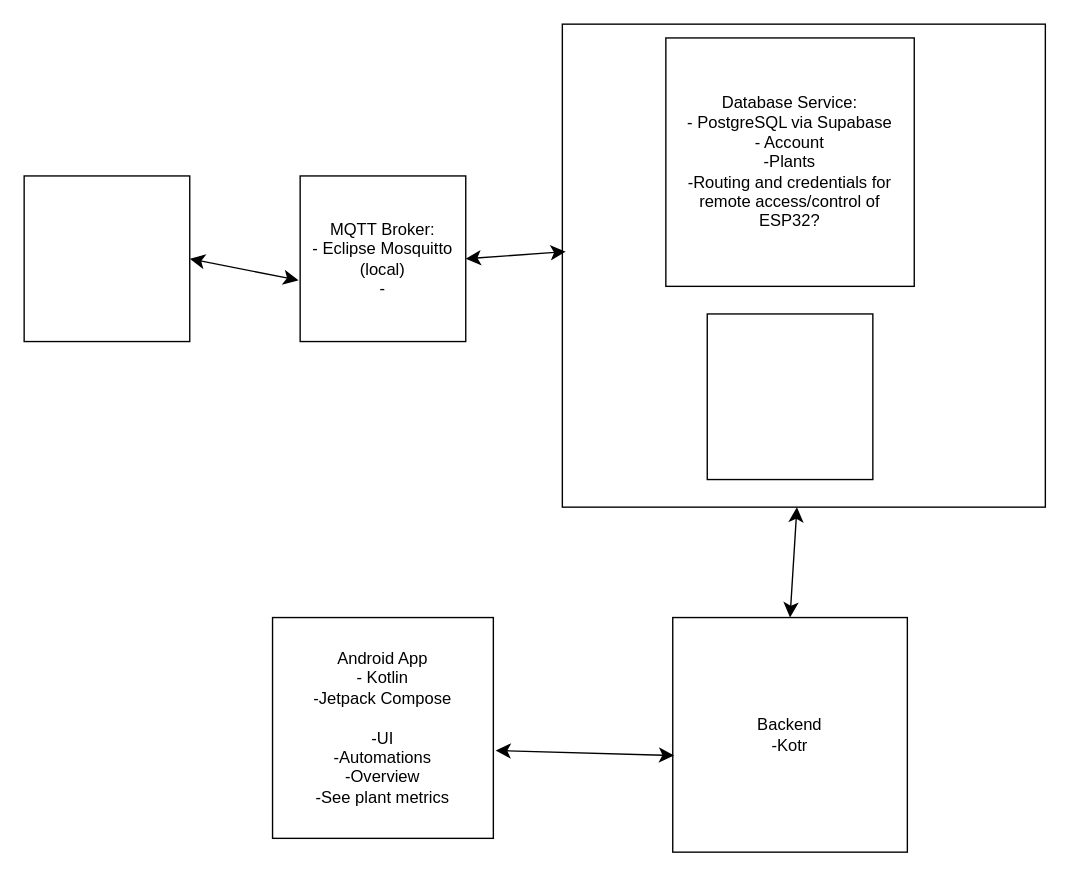
This 1070x876 diagram has some shape labels left out. Here are the shapes that lost their labels. From the top down, the box of each, then its label:
(23, 175, 190, 342): ESP32: - Water pump - Photo sensor -temperature sensor -moisture sensor -camera
(706, 313, 873, 480): Time database service: - History of plant metrics to graph
